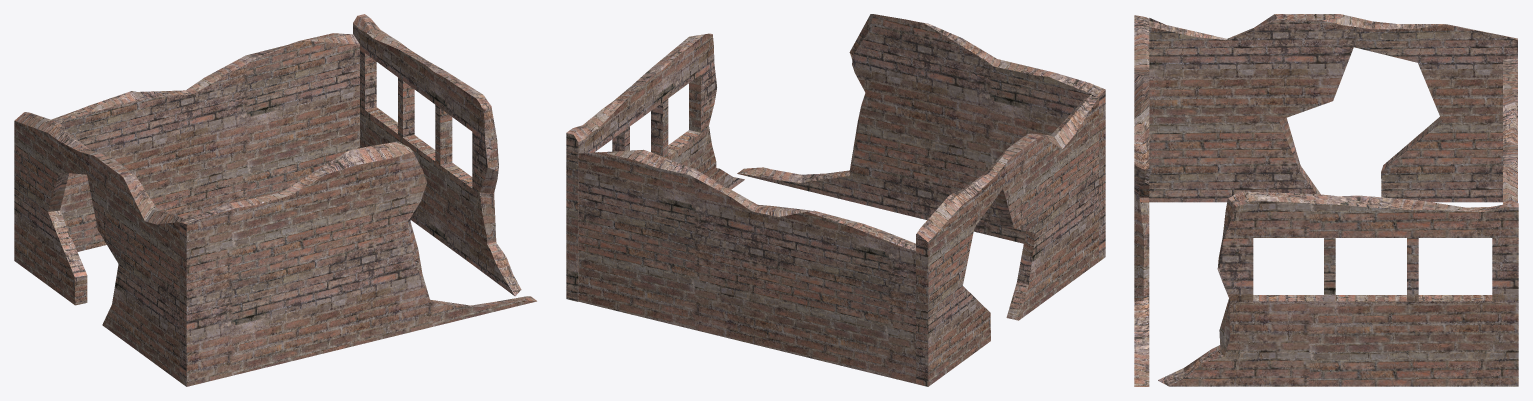
The model's file is nha4.fbx.
The picture shows the model from 3 angles, left to right: view 1: azimuth 30°, elevation 25°; view 2: azimuth 150°, elevation 25°; view 3: azimuth 270°, elevation 25°; orthographic projection. The views are drawn at different scales.
Parts seen in each view (by area): view 1: Cube, Cube.002, Cube.001, Cube.003; view 2: Cube.002, Cube, Cube.001, Cube.003; view 3: Cube.001, Cube.003, Cube, Cube.002.
Part boxes in pixels (x1=…): Cube: x1=179, y1=141, x2=536, y2=386; Cube.002: x1=51, y1=33, x2=359, y2=251; Cube.001: x1=14, y1=112, x2=186, y2=381; Cube.003: x1=353, y1=14, x2=521, y2=296; Cube.002: x1=578, y1=149, x2=915, y2=383; Cube: x1=737, y1=14, x2=1105, y2=261; Cube.001: x1=916, y1=95, x2=1098, y2=386; Cube.003: x1=566, y1=33, x2=744, y2=301; Cube.001: x1=1149, y1=14, x2=1517, y2=202; Cube.003: x1=1158, y1=191, x2=1518, y2=386; Cube: x1=1134, y1=15, x2=1149, y2=386; Cube.002: x1=1503, y1=58, x2=1517, y2=204.
Bounding box in the file's own units: 600 × 311 × 511.
1 material, 1 textured.
